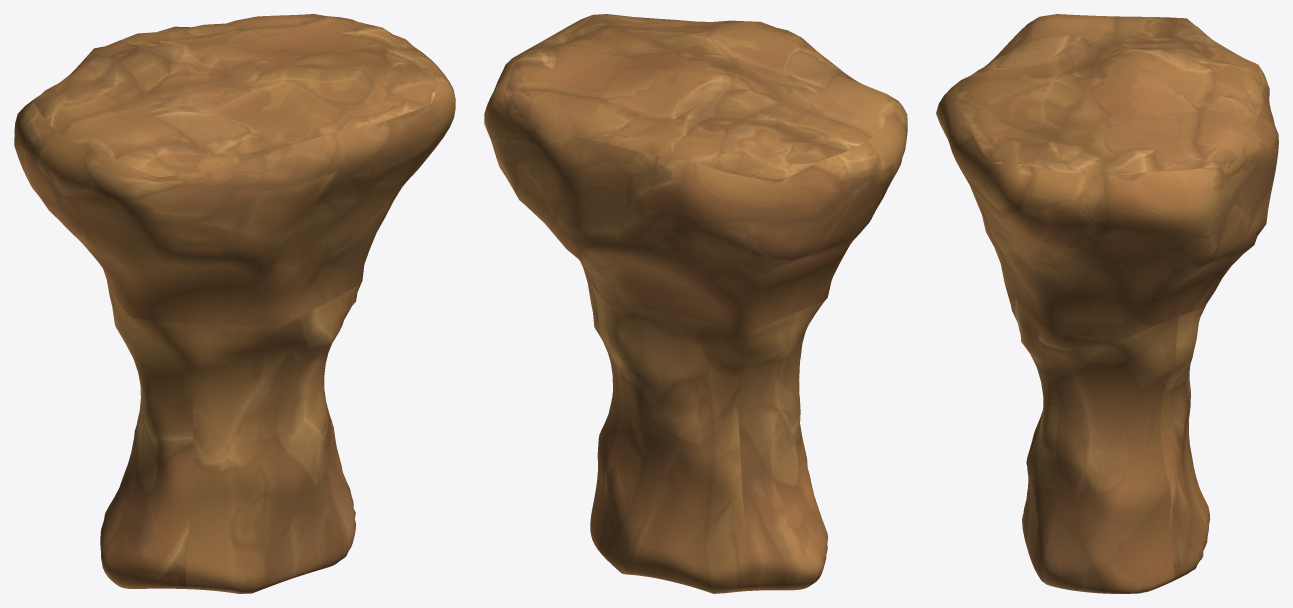
File: islands8.fbx
3 views of the same model, side by side, from view 1: azimuth 30°, elevation 25°; view 2: azimuth 150°, elevation 25°; view 3: azimuth 270°, elevation 25° (orthographic). The views are drawn at different scales.
Visible parts, largest first — view 1: Cube.010; view 2: Cube.010; view 3: Cube.010.
Part boxes in pixels (x1,y1,x2,y2): Cube.010: [14, 14, 455, 593]; Cube.010: [484, 14, 907, 593]; Cube.010: [936, 14, 1278, 593].
Size of the model in its own units: 1120 by 1474 by 895.
Materials: 1 (1 with a texture image).
